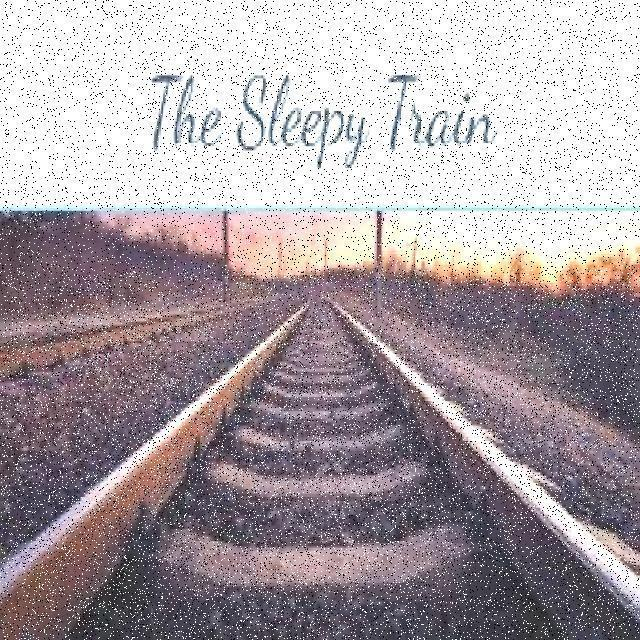rail: (3, 271, 640, 640)
